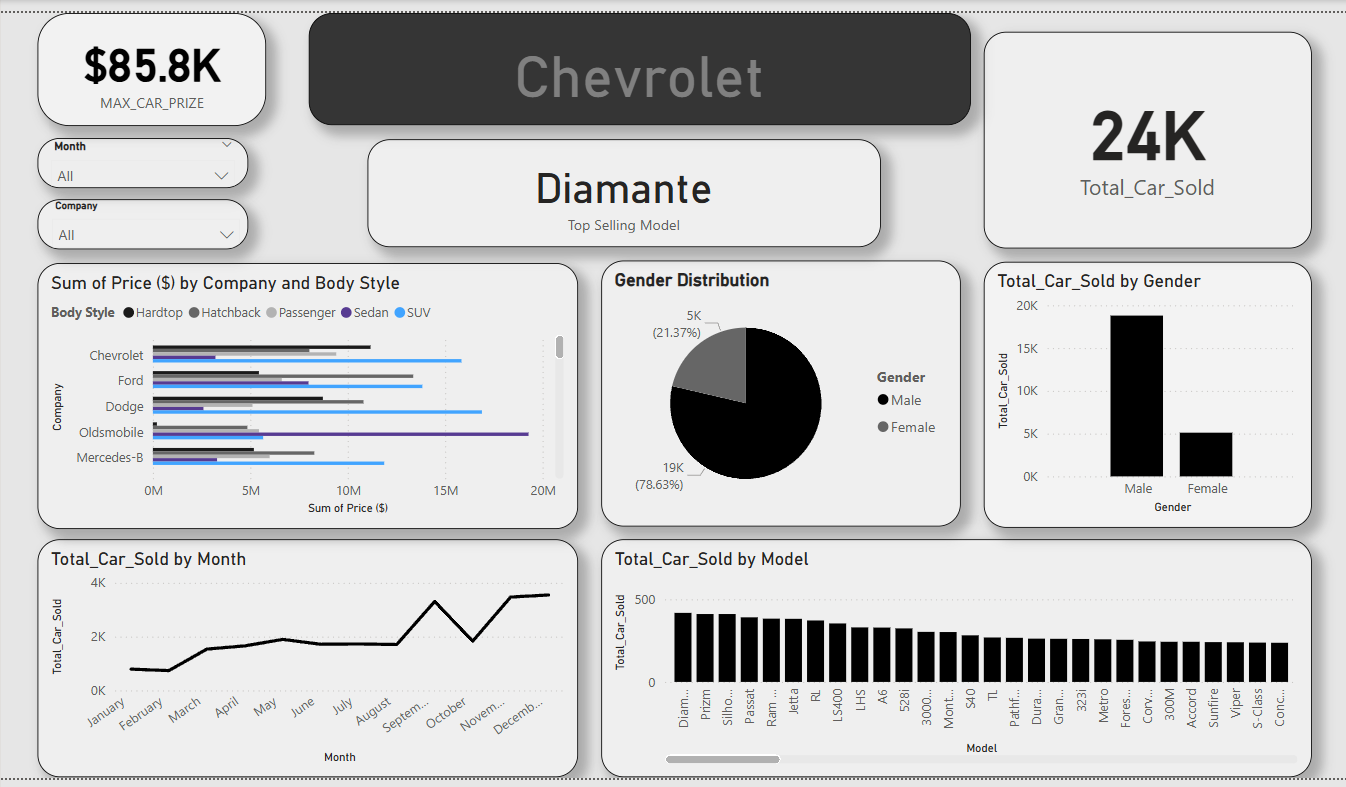

What the dashboard file says about the page in this screenshot:
{"tool":"powerbi","page":{"name":"Page 1","canvas":[1280,720],"ordinal":0},"visuals":[{"type":"card","fields":{"Values":["CAR SALES.MAX_CAR_PRIZE"]},"box":[35,0,215,106.2],"z":0},{"type":"card","fields":{"Values":["CAR SALES.Top Selling Car"]},"box":[290,0,622.9,105.7],"z":1000},{"type":"slicer","fields":{"Values":["CAR SALES.Month"]},"box":[35.7,117.2,198.6,47.1],"z":2000},{"type":"card","fields":{"Values":["CAR SALES.total_car_sold"]},"box":[925.7,17.1,308.6,204.3],"z":3000},{"type":"pieChart","title":"Gender Distribution","fields":{"Category":["CAR SALES.Gender"],"Y":["CAR SALES.total_car_sold"]},"box":[565.7,232.9,338.6,250],"z":4000},{"type":"lineChart","fields":{"Category":["CAR SALES.Month"],"Y":["CAR SALES.total_car_sold"]},"box":[35.7,495.7,508.6,224.3],"z":5000},{"type":"card","fields":{"Values":["CAR SALES.Top Selling Model"]},"box":[345.7,118.6,482.9,101.4],"z":6000},{"type":"clusteredColumnChart","fields":{"Y":["CAR SALES.total_car_sold"],"Category":["CAR SALES.Model"]},"box":[565.7,495.7,668.6,224.3],"z":7000},{"type":"clusteredBarChart","fields":{"Y":["Sum(CAR SALES.Price ($))"],"Category":["CAR SALES.Company"],"Series":["CAR SALES.Body Style"]},"box":[35.7,234.8,508.6,250],"z":8000},{"type":"columnChart","fields":{"Y":["CAR SALES.total_car_sold"],"Category":["CAR SALES.Gender"]},"box":[925.7,233.6,308.6,250],"z":9000},{"type":"slicer","fields":{"Values":["CAR SALES.Company"]},"box":[35.7,175.7,198.6,47.1],"z":10000}]}

Visuals, with their boxes in screenshot pixels (x1, y1, x2, y2):
card - CAR SALES.MAX_CAR_PRIZE: x1=24, y1=7, x2=255, y2=121
card - CAR SALES.Top Selling Car: x1=298, y1=7, x2=967, y2=121
slicer - CAR SALES.Month: x1=24, y1=133, x2=238, y2=184
card - CAR SALES.total_car_sold: x1=981, y1=25, x2=1313, y2=245
"Gender Distribution" pieChart: x1=594, y1=257, x2=958, y2=526
lineChart - CAR SALES.Month x CAR SALES.total_car_sold: x1=24, y1=540, x2=571, y2=781
card - CAR SALES.Top Selling Model: x1=358, y1=135, x2=877, y2=244
clusteredColumnChart - CAR SALES.total_car_sold x CAR SALES.Model: x1=594, y1=540, x2=1313, y2=781
clusteredBarChart - Sum(CAR SALES.Price ($)) x CAR SALES.Company: x1=24, y1=259, x2=571, y2=528
columnChart - CAR SALES.total_car_sold x CAR SALES.Gender: x1=981, y1=258, x2=1313, y2=527
slicer - CAR SALES.Company: x1=24, y1=196, x2=238, y2=247
